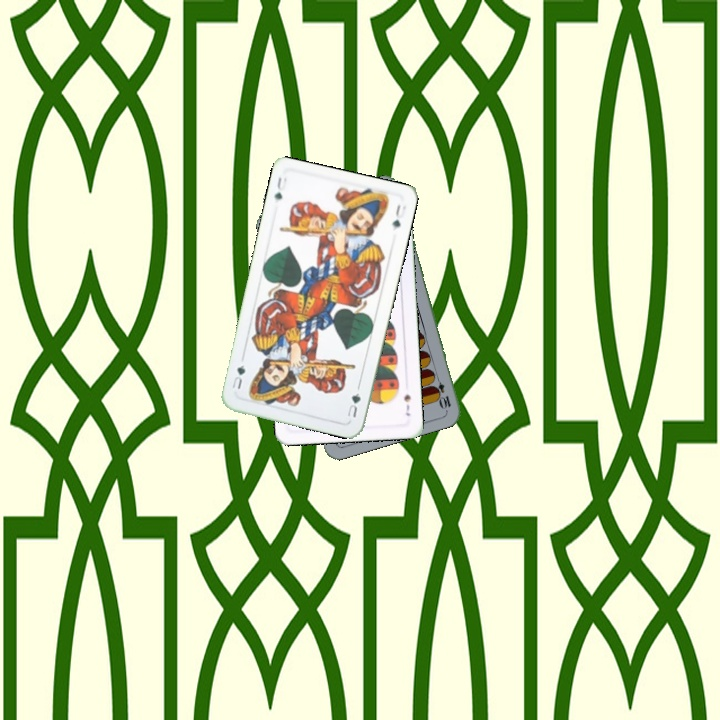E10: (430, 371, 453, 411)
GU: (344, 389, 363, 420), (270, 172, 289, 203)
S7: (400, 390, 413, 418)
